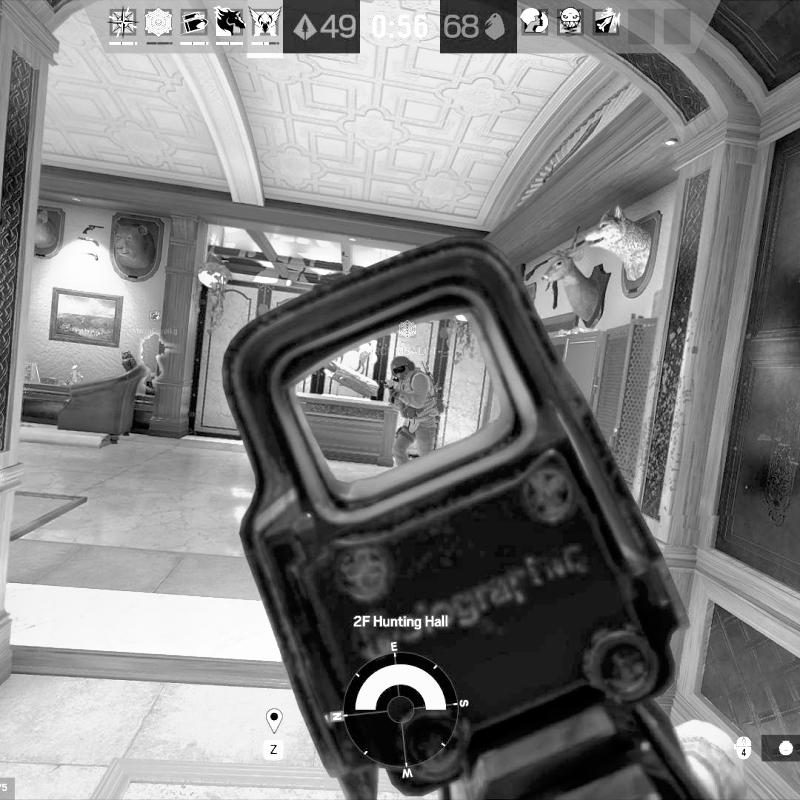Character: (383, 355, 444, 468)
Friend_label: (362, 317, 455, 358), (131, 308, 179, 336)
Head: (390, 356, 416, 379)
